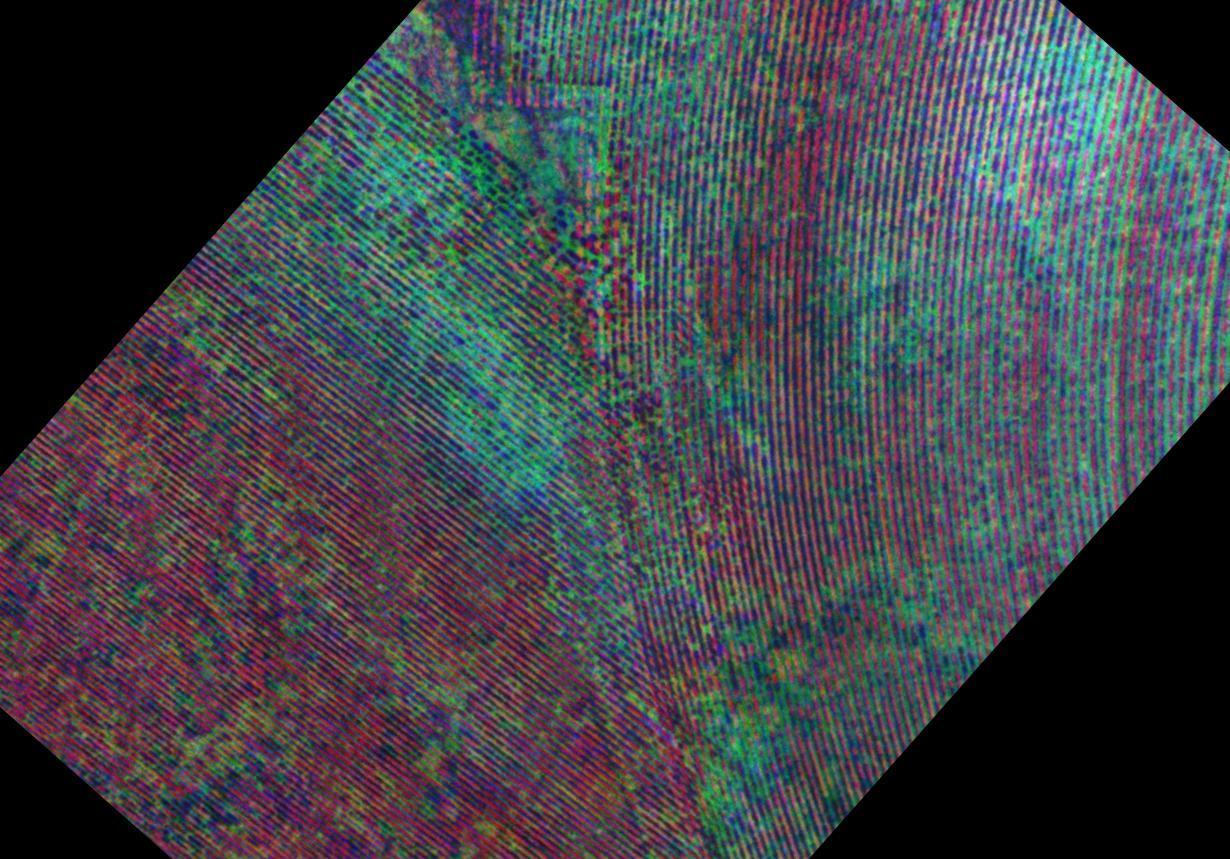dc: (318, 113, 432, 225), (693, 700, 775, 831), (518, 85, 604, 172), (1033, 48, 1131, 123), (466, 398, 550, 474), (383, 288, 449, 358)
